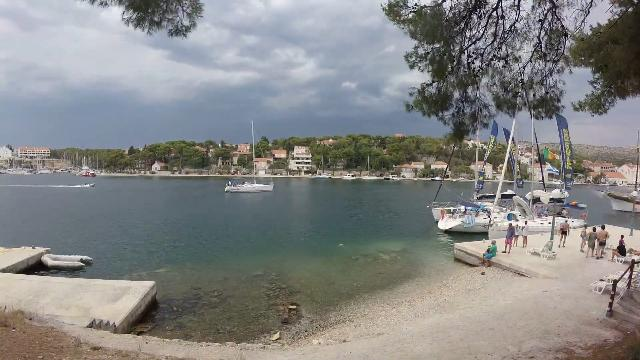Sailboat: (219, 173, 277, 197)
speedboat: (72, 178, 100, 192)
